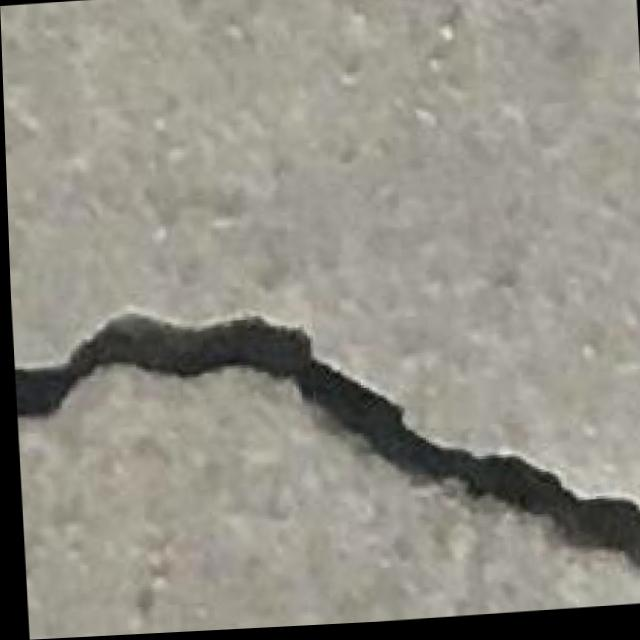Crack: (27, 264, 640, 579)
